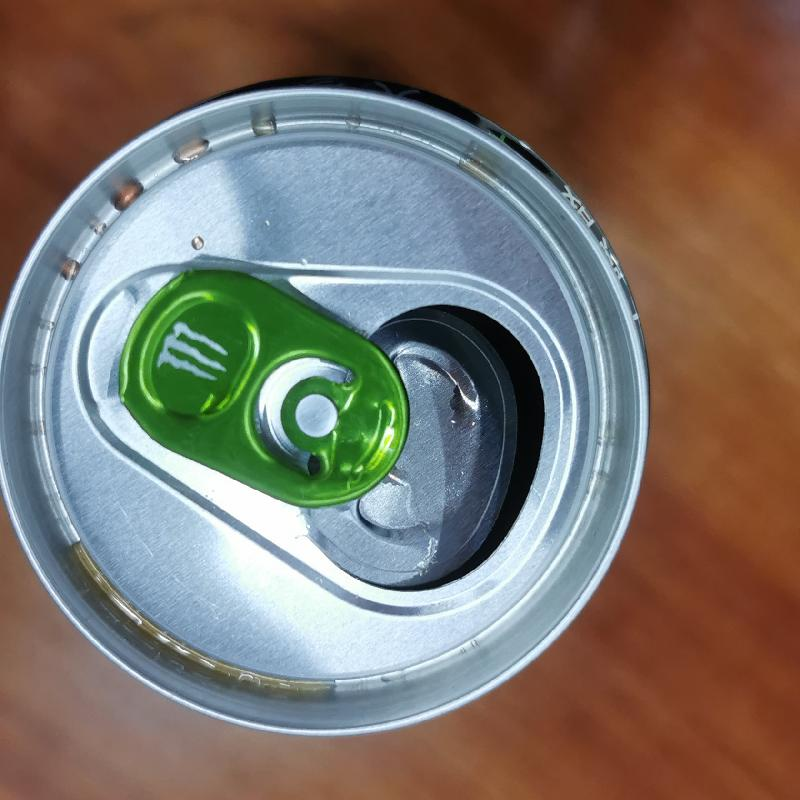cans: (6, 63, 652, 741)
